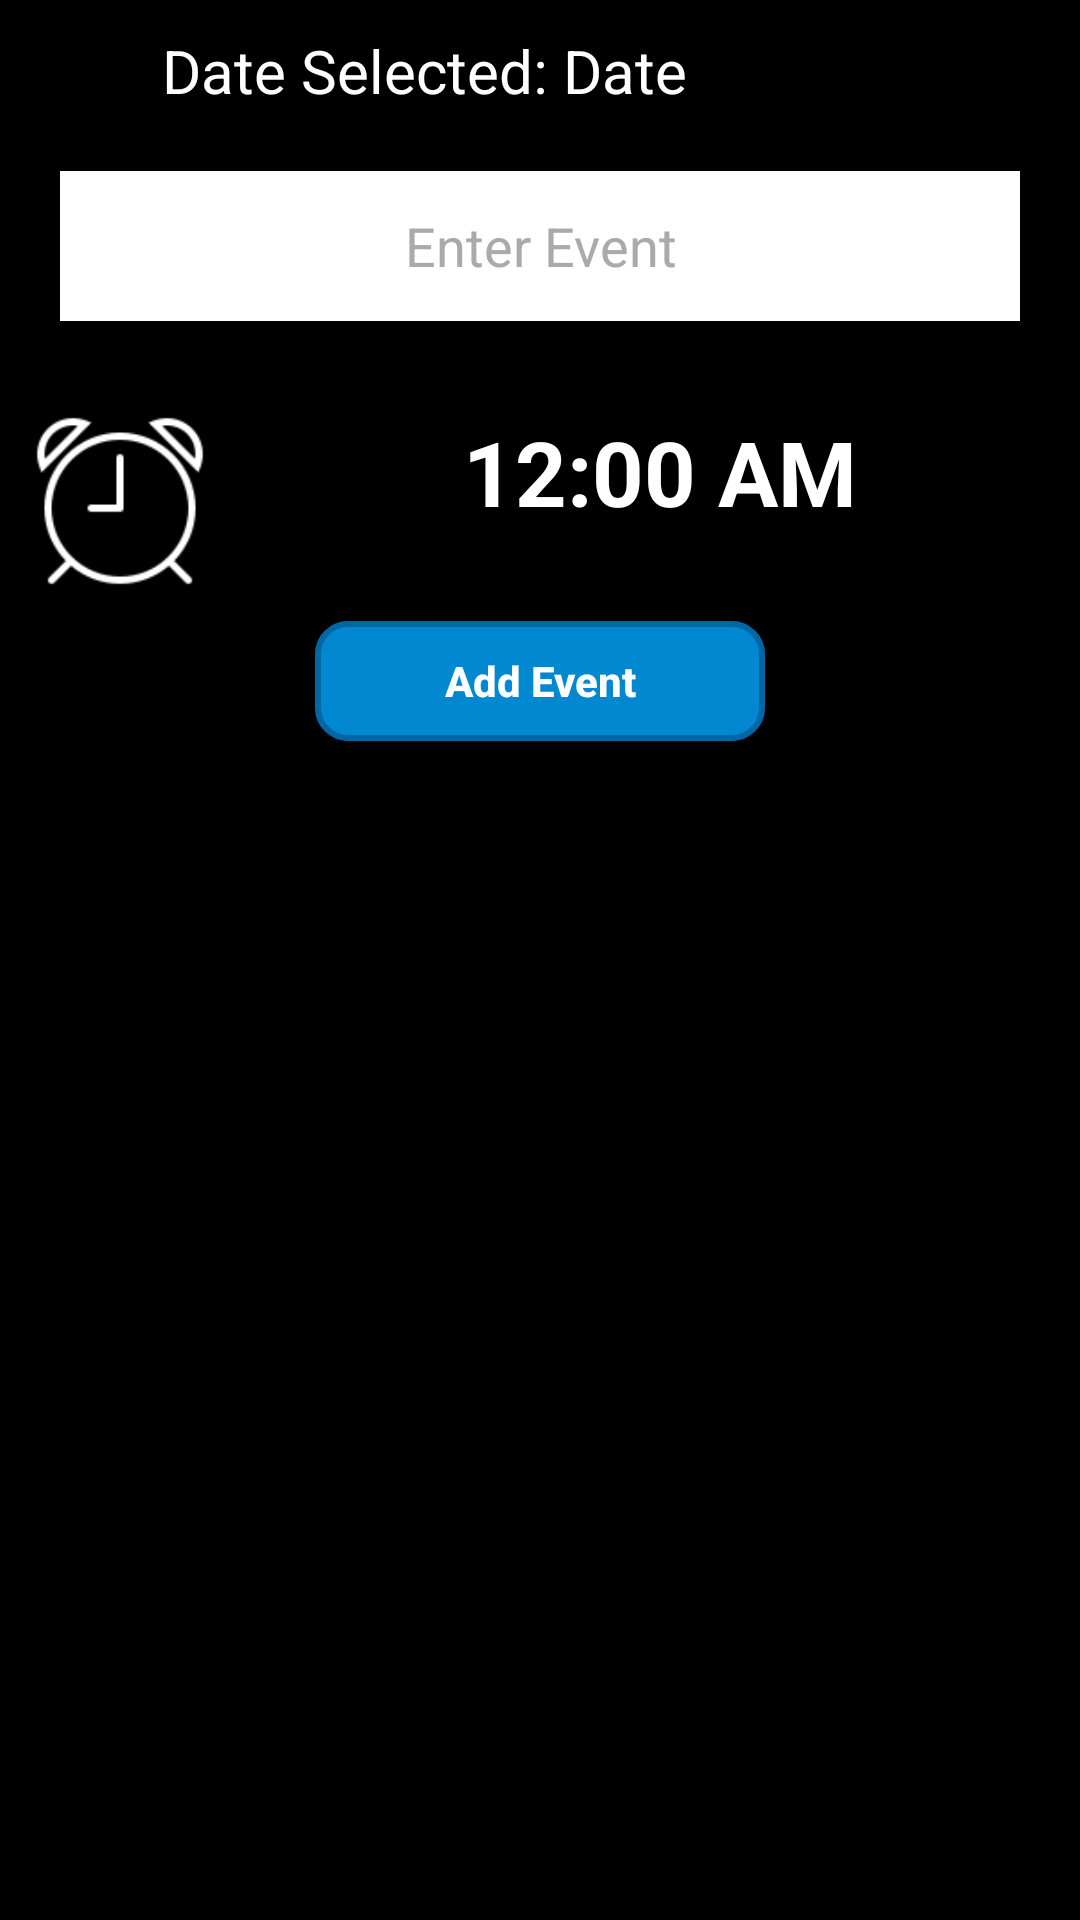

Icon bounding boxes for this 1080px x 1920px phone screenshot, format (x1, y1, x2, y2):
timeicon: (36, 417, 204, 585)
